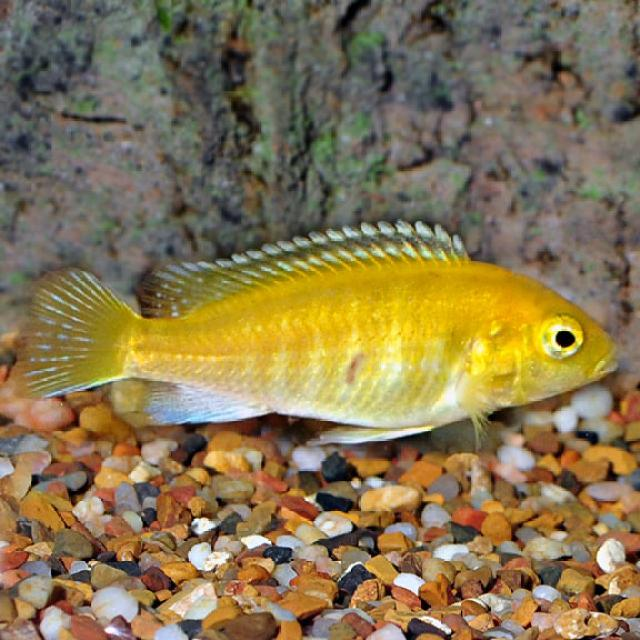YellowCichlid: (27, 230, 619, 429)
